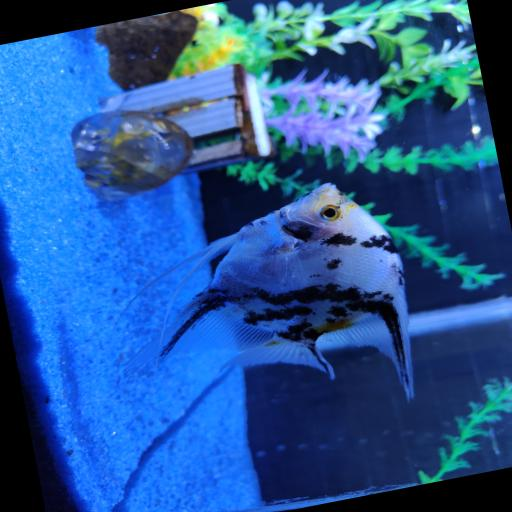Fish: (125, 183, 412, 398)
